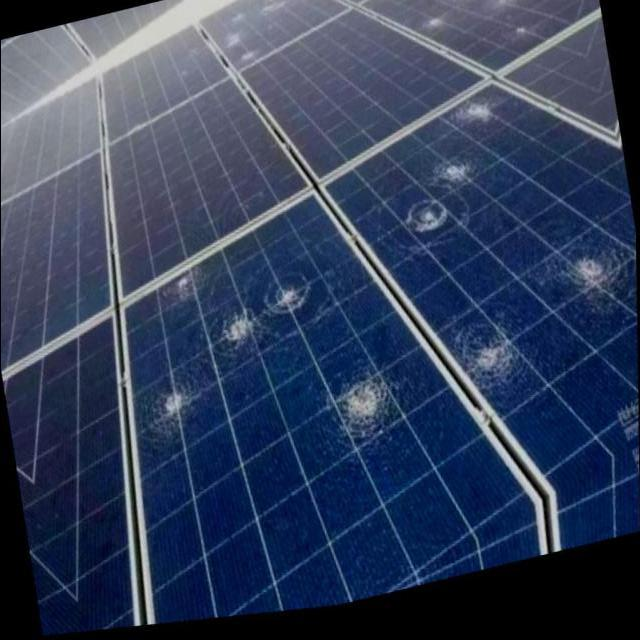cracked: (115, 206, 422, 626), (340, 97, 640, 483), (370, 0, 590, 70), (179, 4, 344, 82)
